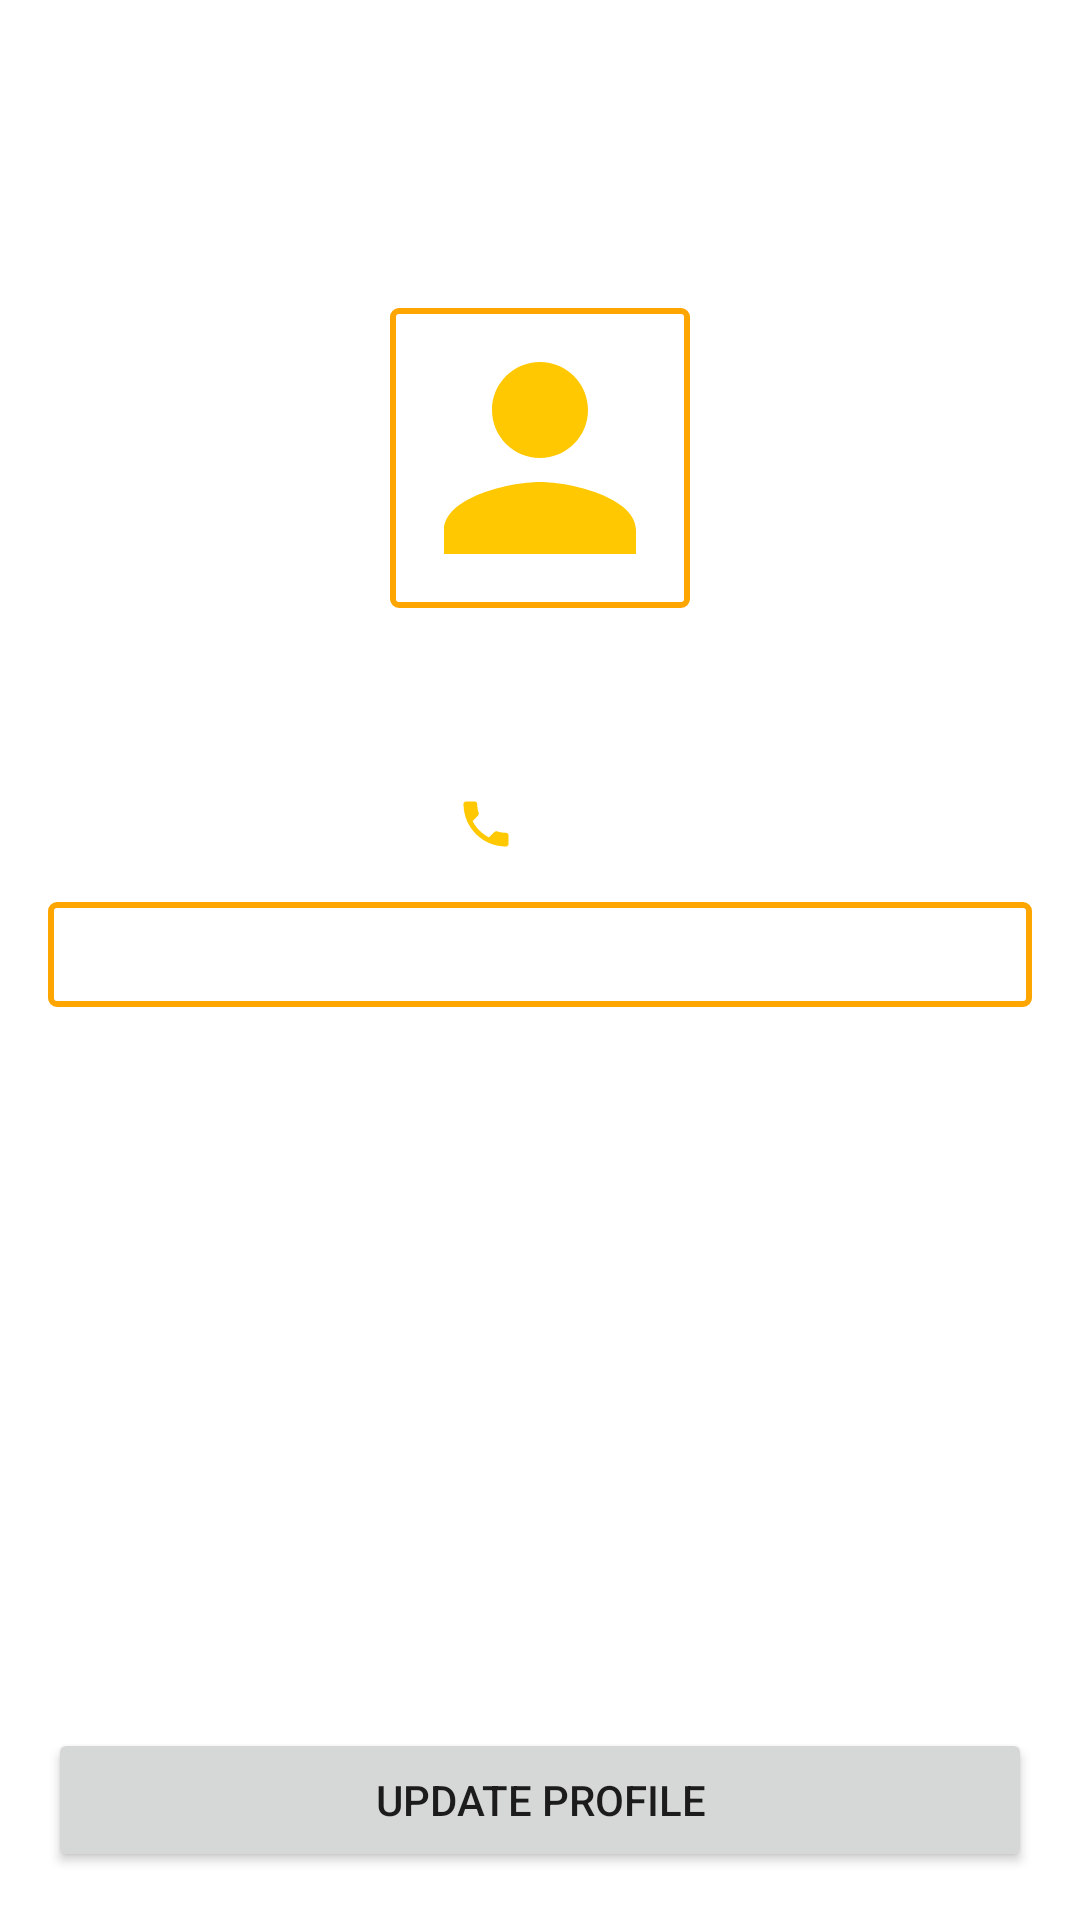

Named icons in this screenshot (1080px x 1920px) and their bounding boxes, (x1, y1, x2, y2):
local phone: (463, 801, 509, 847)
person: (390, 308, 690, 608)
